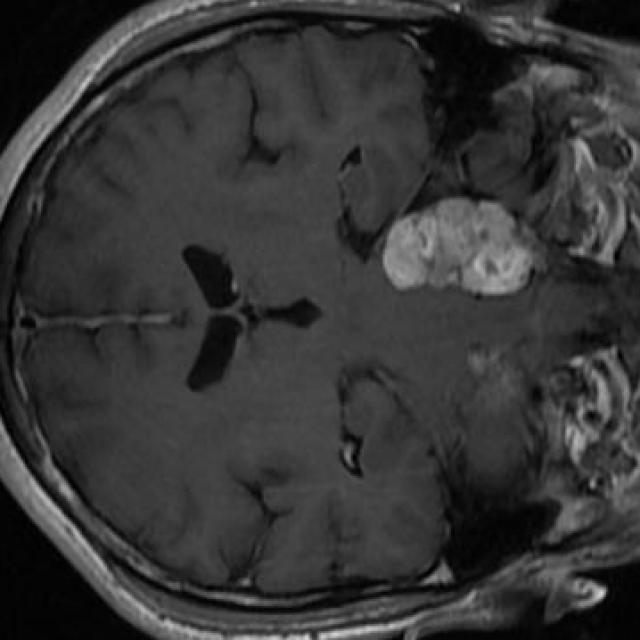meningioma: (382, 198, 544, 296)
